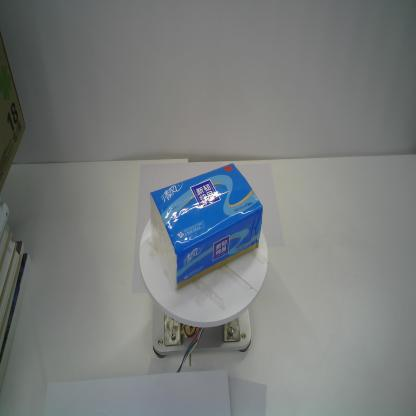Tissue: (149, 161, 264, 293)
